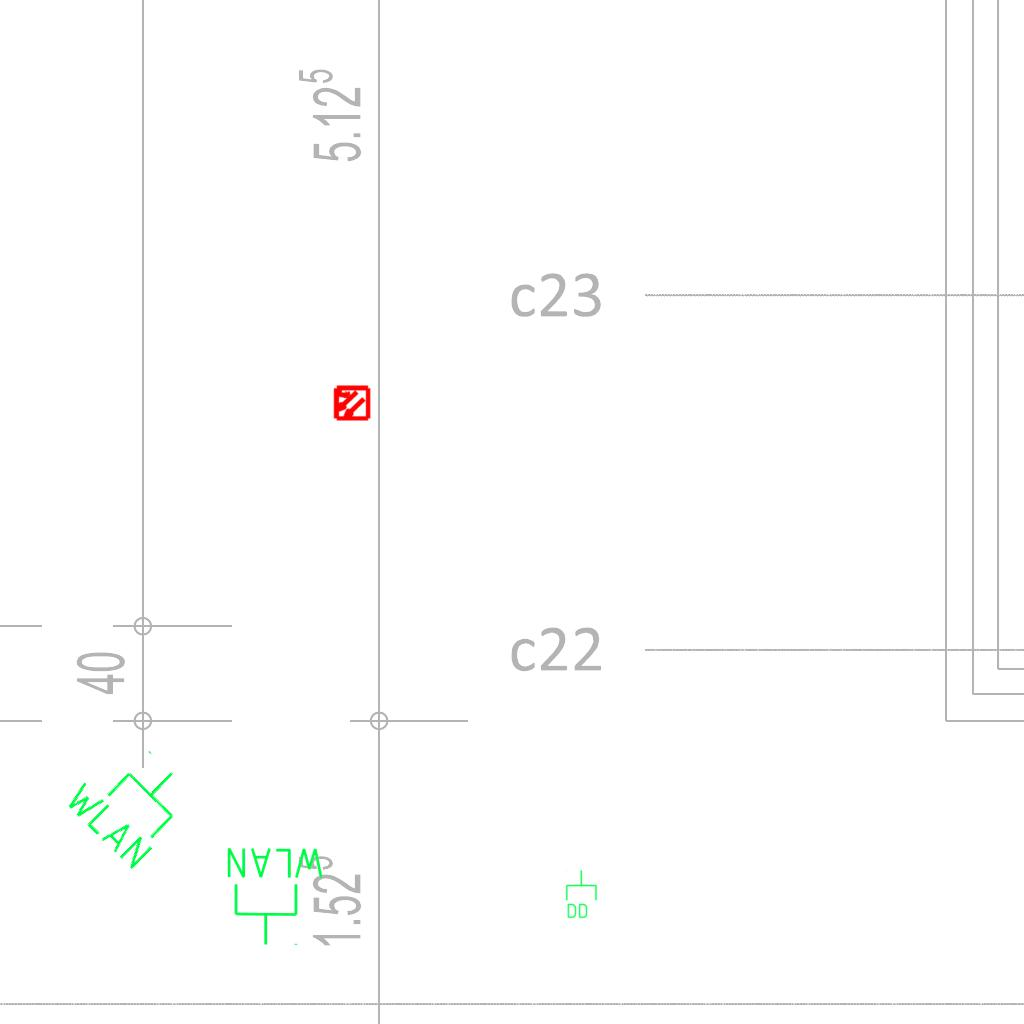Datenanschluss_zweifach: (564, 869, 598, 920)
OT_Multisensormelder_(Kombination_RMO_WMD): (323, 375, 379, 431)
WLAN: (57, 727, 205, 876), (223, 844, 328, 948)
